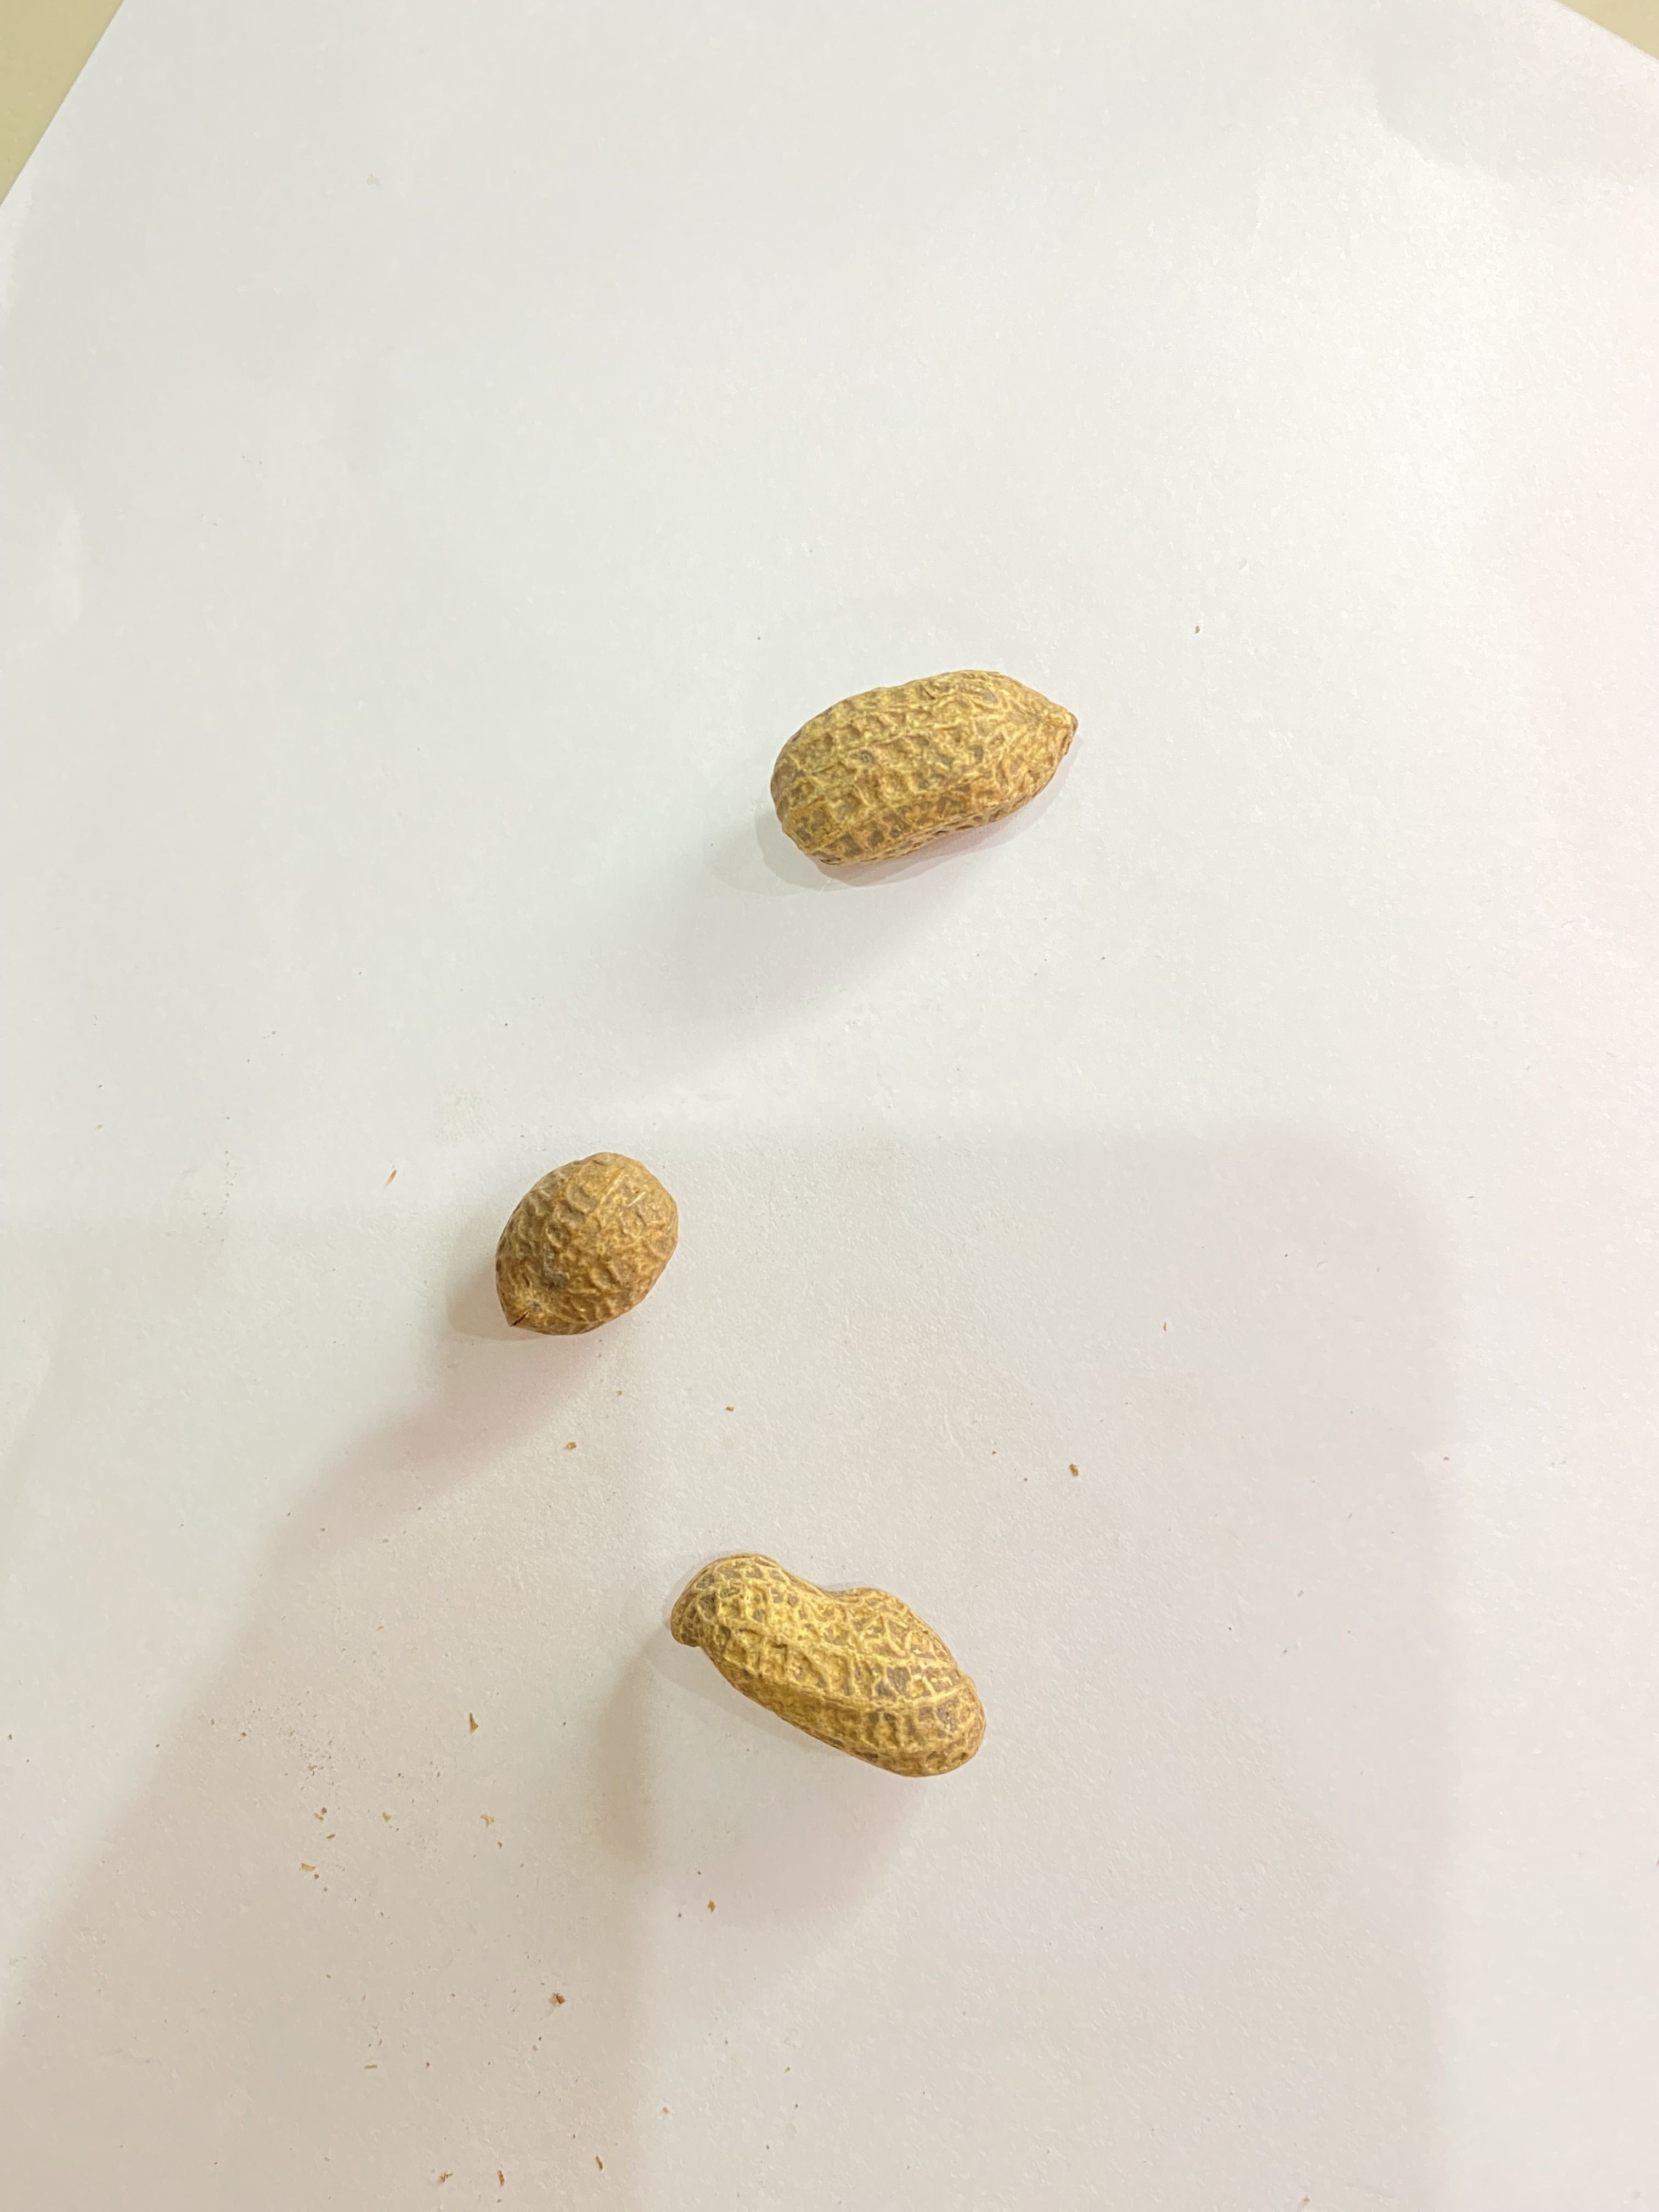kacang1: (735, 632, 1150, 939), (439, 1141, 779, 1371)
kacang2: (657, 1515, 997, 1797)
